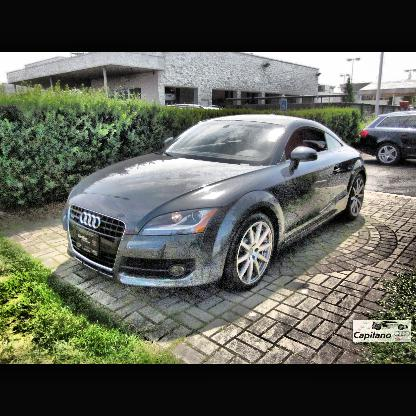Audi TTS Coupe 2012: (64, 117, 367, 294)
